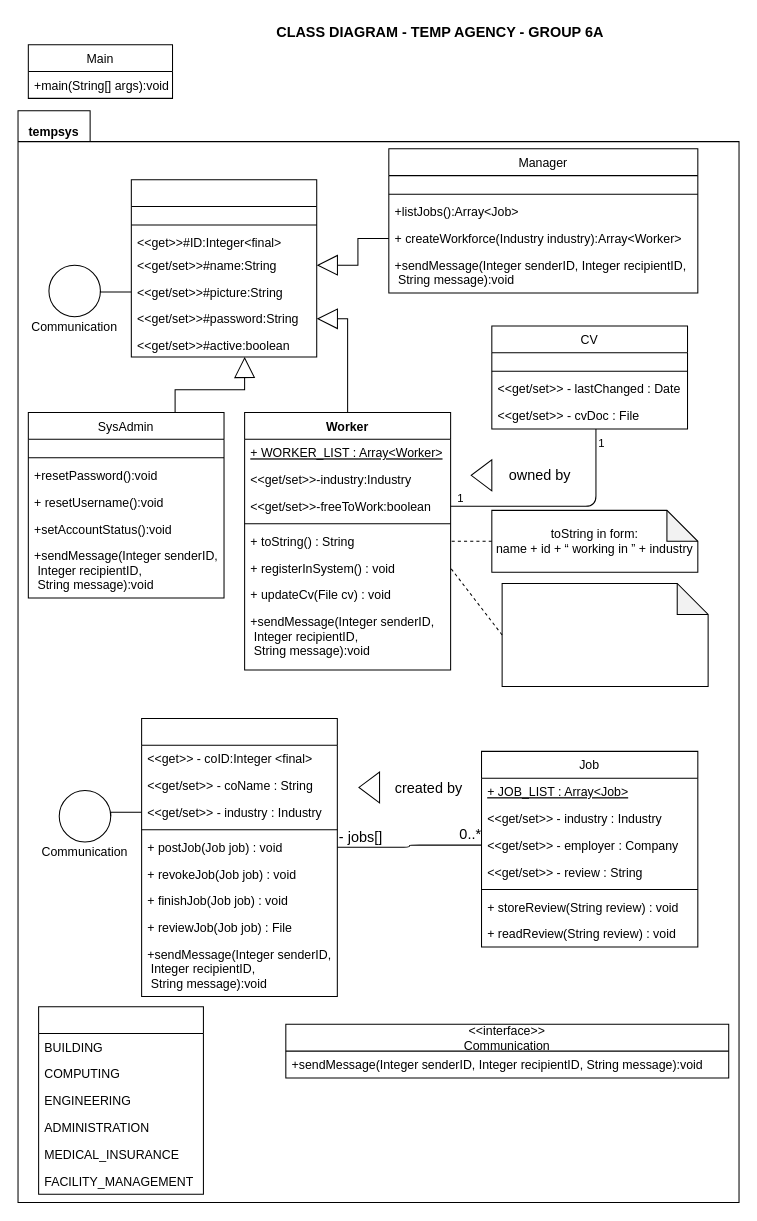
Some shapes in this 757 by 1221 pixel diagram are drawn without their labels. The shapes that lost their labels are listed below. From the top down, each one's box as (x1, y1, x2, y2) in pixels, then its label:
(130, 179, 317, 357): {abstract} Person
(501, 582, 708, 686): registerInSystem() adds the worker to the static WORKER_LIST
(141, 717, 337, 997): Company
(38, 1006, 203, 1194): {enumeration} Industry
